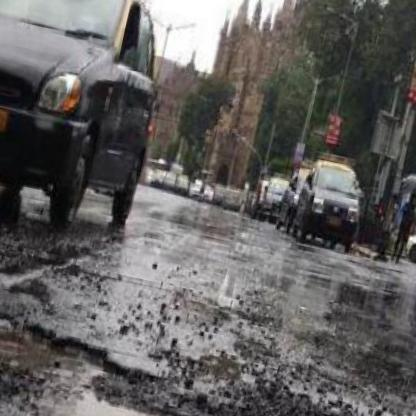pothole: (0, 294, 127, 394), (63, 372, 227, 416)
